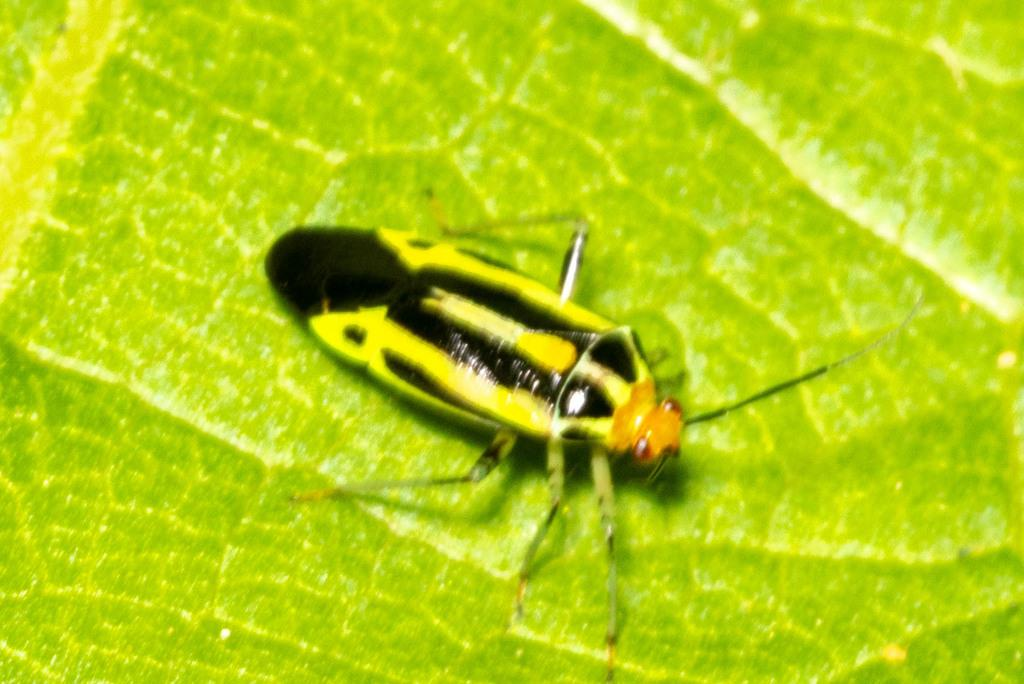plant_bugs: (207, 148, 921, 684)
